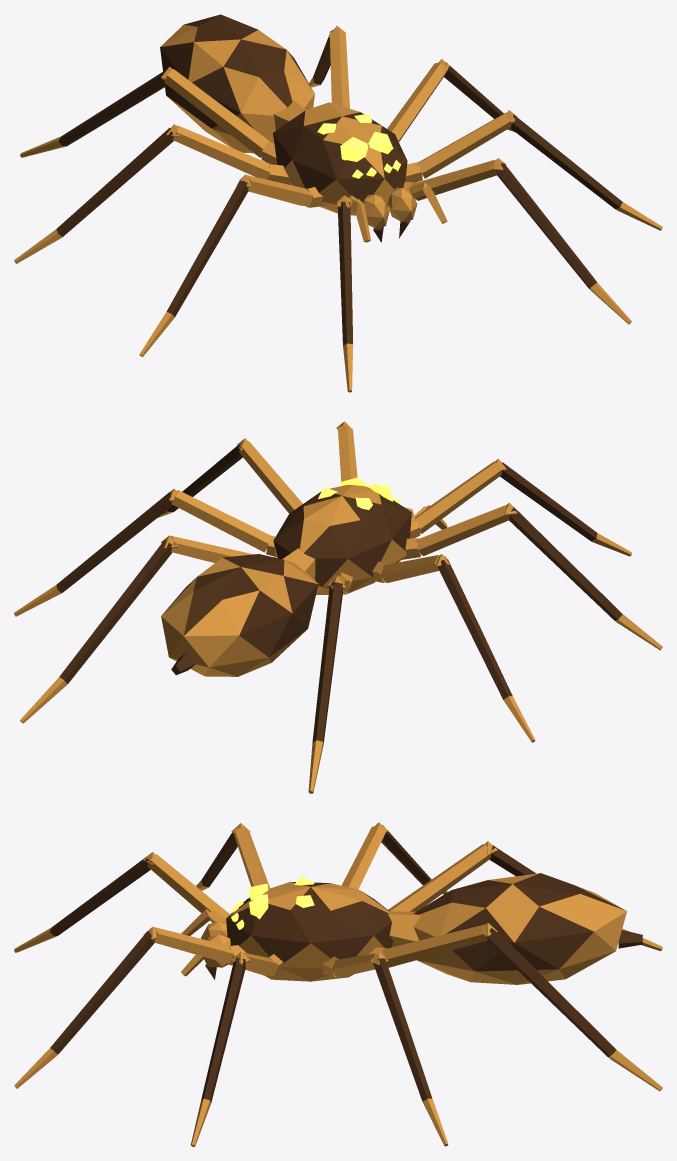
The model's file is wolf.glb.
3 views of the same model, one above another, from view 1: azimuth 30°, elevation 25°; view 2: azimuth 150°, elevation 25°; view 3: azimuth 270°, elevation 25° (orthographic).
Parts seen in each view (by area): view 1: abdomen, body, leg_R4_upper, leg_L1_lower, leg_R3_lower, leg_R2_lower, leg_R1_lower, leg_L2_lower, leg_R3_upper, leg_R4_lower, leg_L2_upper, fangs (+6 smaller); view 2: abdomen, body, leg_L4_lower, leg_R4_lower, leg_R2_lower, leg_R3_lower, leg_L3_lower, leg_L3_upper, leg_R2_upper, leg_R1_upper, leg_R1_lower, leg_L2_upper (+4 smaller); view 3: abdomen, body, leg_L4_lower, leg_L1_lower, leg_L3_lower, leg_L2_lower, leg_L4_upper, leg_R4_upper, leg_R1_lower, leg_L1_upper, leg_R1_upper, leg_R3_upper (+7 smaller).
Boxes of the visible parts, left/top/right/bottom form: abdomen: left=160, top=14, right=314, bottom=153; body: left=273, top=102, right=407, bottom=213; leg_R4_upper: left=164, top=69, right=277, bottom=164; leg_L1_lower: left=490, top=158, right=631, bottom=324; leg_R3_lower: left=14, top=124, right=179, bottom=263; leg_R2_lower: left=139, top=174, right=250, bottom=356; leg_R1_lower: left=336, top=195, right=353, bottom=392; leg_L2_lower: left=506, top=110, right=662, bottom=230; leg_R3_upper: left=172, top=125, right=291, bottom=185; leg_R4_lower: left=20, top=66, right=172, bottom=157; leg_L2_upper: left=405, top=112, right=511, bottom=182; fangs: left=363, top=187, right=417, bottom=242; abdomen: left=161, top=548, right=318, bottom=676; body: left=273, top=477, right=411, bottom=594; leg_L4_lower: left=20, top=535, right=178, bottom=723; leg_R4_lower: left=308, top=576, right=345, bottom=793; leg_R2_lower: left=504, top=502, right=662, bottom=650; leg_R3_lower: left=436, top=554, right=535, bottom=742; leg_L3_lower: left=14, top=488, right=177, bottom=616; leg_L3_upper: left=171, top=490, right=275, bottom=556; leg_R2_upper: left=402, top=505, right=509, bottom=559; leg_R1_upper: left=410, top=461, right=502, bottom=538; leg_R1_lower: left=494, top=458, right=631, bottom=556; leg_L2_upper: left=239, top=441, right=302, bottom=513; abdomen: left=388, top=873, right=642, bottom=984; body: left=226, top=876, right=393, bottom=981; leg_L4_lower: left=484, top=923, right=662, bottom=1091; leg_L1_lower: left=14, top=926, right=156, bottom=1088; leg_L3_lower: left=369, top=952, right=448, bottom=1146; leg_L2_lower: left=190, top=951, right=249, bottom=1146; leg_L4_upper: left=369, top=924, right=487, bottom=967; leg_R4_upper: left=388, top=844, right=491, bottom=911; leg_R1_lower: left=14, top=852, right=155, bottom=952; leg_L1_upper: left=154, top=927, right=246, bottom=965; leg_R1_upper: left=147, top=854, right=229, bottom=922; leg_R3_upper: left=341, top=826, right=385, bottom=889.
Bounding box in the file's own units: 5.6 × 1.43 × 6.03.
